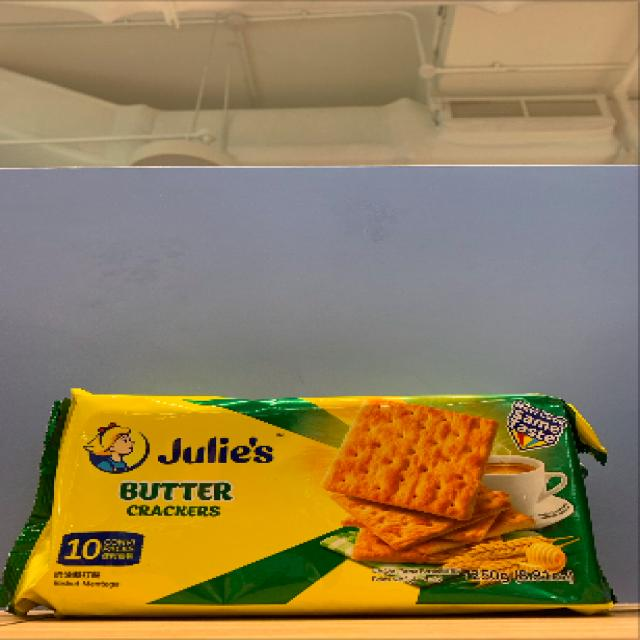object_name: (27, 396, 595, 611)
